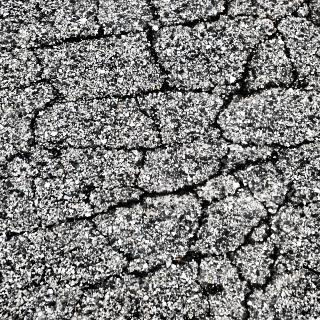alligator-crack: (11, 5, 314, 317)
